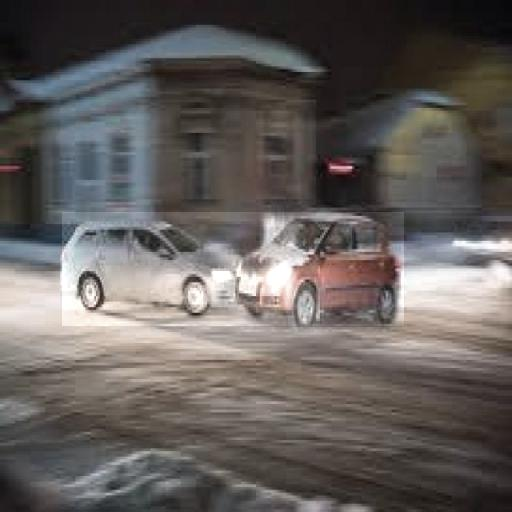小汽车撞小汽车: (62, 212, 404, 326)
